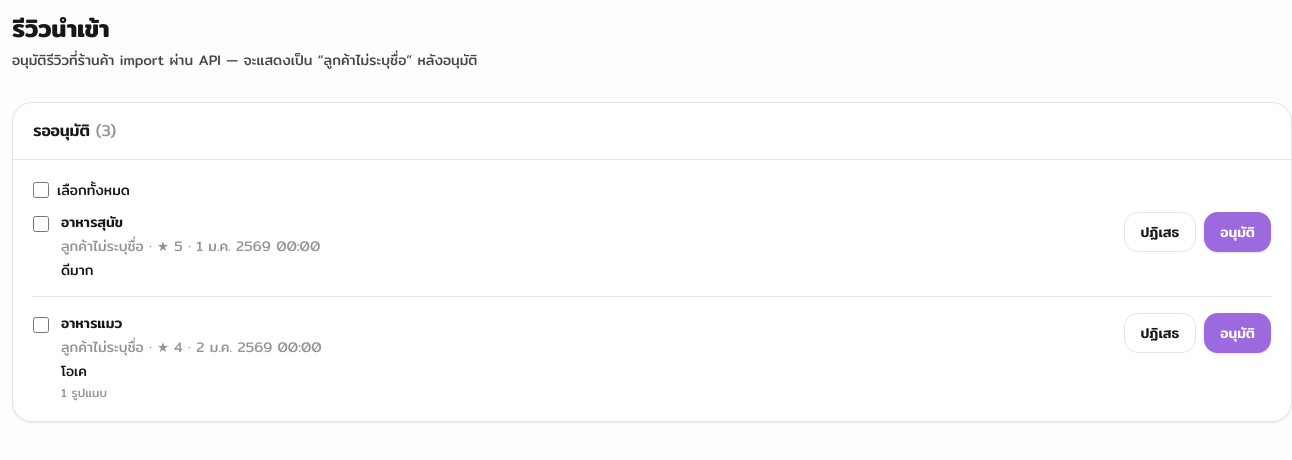
Test case: AdminReviewsPage batch approve › select-all loads every pending id, not only the current page
The image size is (1292, 460).
Click the checkbox labelled "เลือกทั้งหมด": (41, 190) [33,182,49,198]
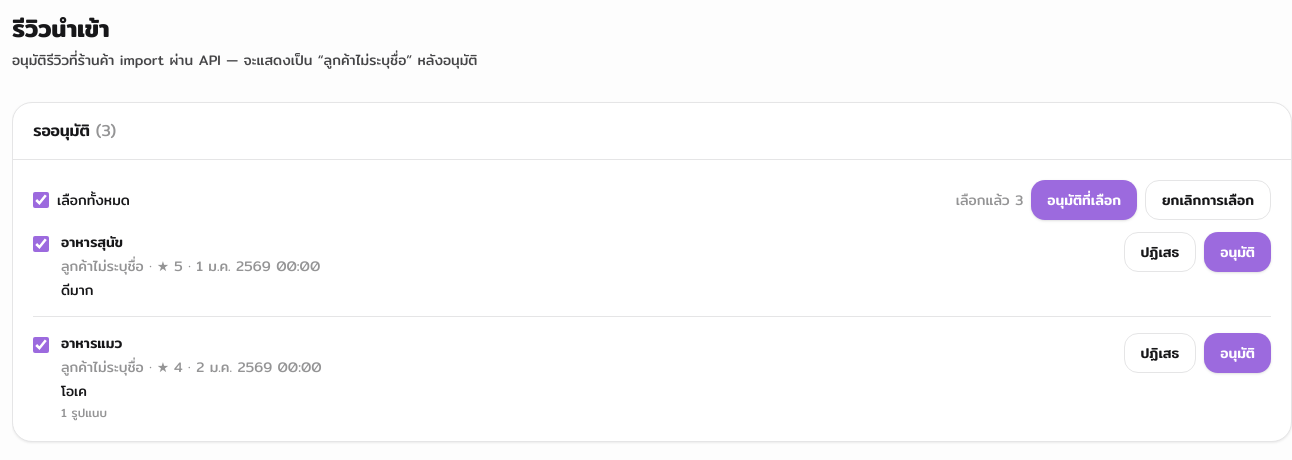
Check: the text "เลือกแล้ว 3" is shown, box [956,190,1023,210]
Check: the button "อนุมัติที่เลือก" is enabled, box [1031,180,1137,220]
